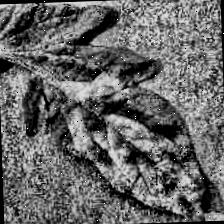leaf mold: (21, 45, 206, 224)
